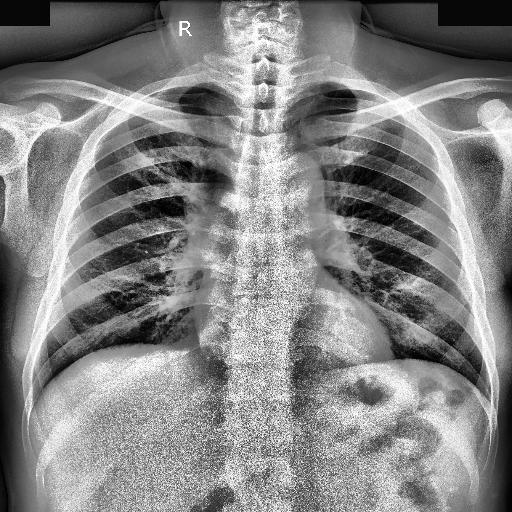0- Aortic enlargement: (259, 152, 326, 231), (276, 152, 326, 204)
13- Pulmonary fibrosis: (132, 141, 206, 216), (134, 144, 183, 182)
